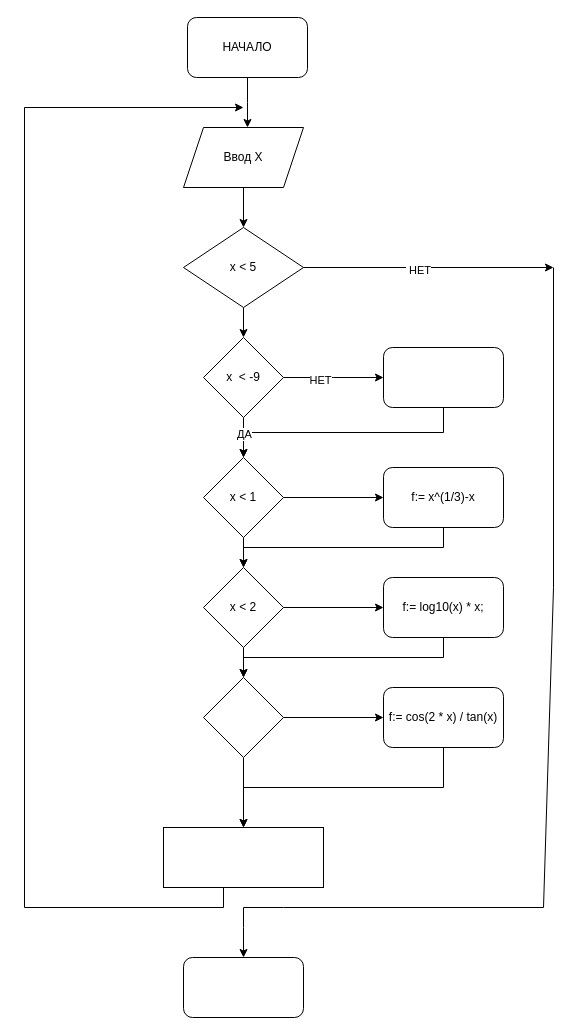
Some shapes in this 579 by 1035 pixel diagram are drawn without their labels. Each missing label, with the centre of its shape:
f:= power(x, 4) * (1 / 3) - x;: point (443, 377)
x <= 2: point (243, 717)
x = x + 0.1: point (243, 857)
КОНЕЦ: point (243, 987)
